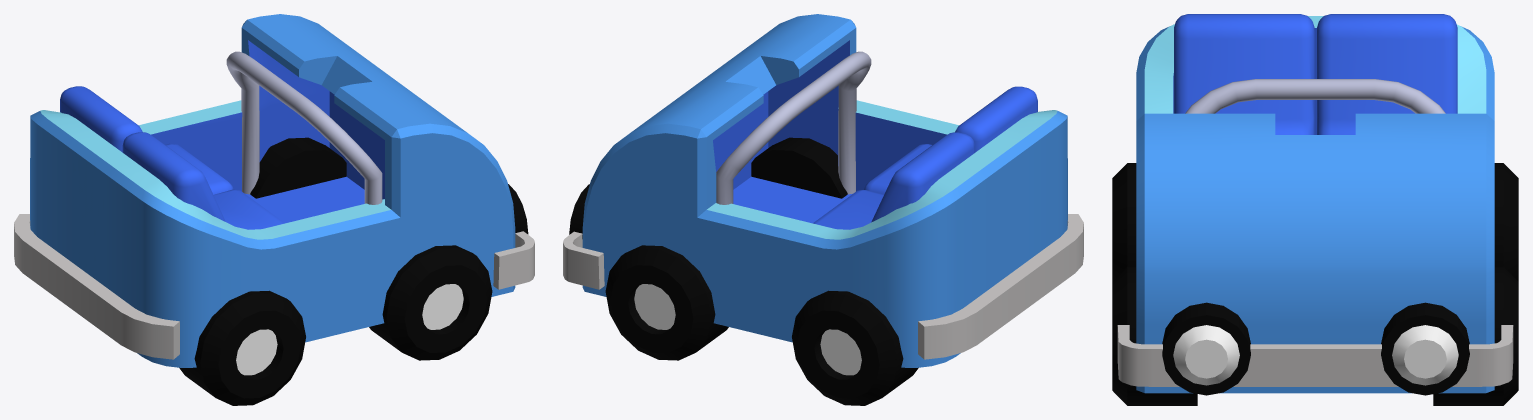
Rendered from Cart_4.fbx.
The picture shows the model from 3 angles, left to right: view 1: azimuth 30°, elevation 25°; view 2: azimuth 150°, elevation 25°; view 3: azimuth 270°, elevation 25°; orthographic projection. The views are drawn at different scales.
Parts seen in each view (by area): view 1: Cart_4; view 2: Cart_4; view 3: Cart_4.
Boxes of the visible parts, x1,y1,x2,y2 form: Cart_4: (14, 14, 534, 405); Cart_4: (563, 14, 1083, 405); Cart_4: (1112, 14, 1518, 405).
Size of the model in its own units: 361 by 210 by 281.
